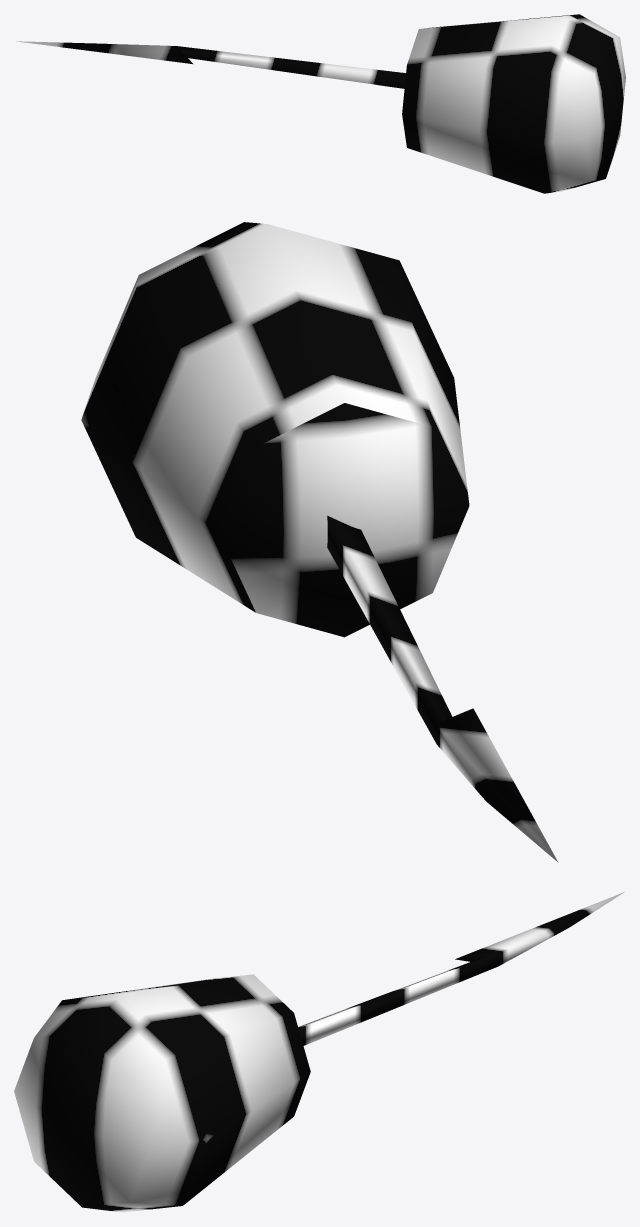
The model's file is initqu3.dae.
3 renders of one model, top to bottom at view 1: azimuth 30°, elevation 25°; view 2: azimuth 150°, elevation 25°; view 3: azimuth 270°, elevation 25°, orthographic. The views are drawn at different scales.
Visible parts, largest first — view 1: item; view 2: item; view 3: item.
Boxes of the visible parts, left/top/right/bottom form: item: left=16, top=14, right=625, bottom=193; item: left=81, top=222, right=558, bottom=862; item: left=14, top=892, right=624, bottom=1212.
Size of the model in its own units: 1.05 by 1.06 by 0.4176.
Materials: 1 (1 with a texture image).
